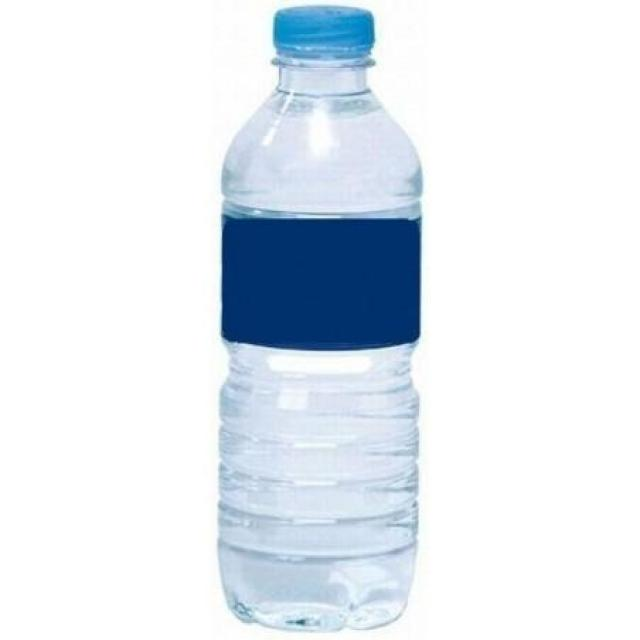chai: (218, 0, 422, 631)
